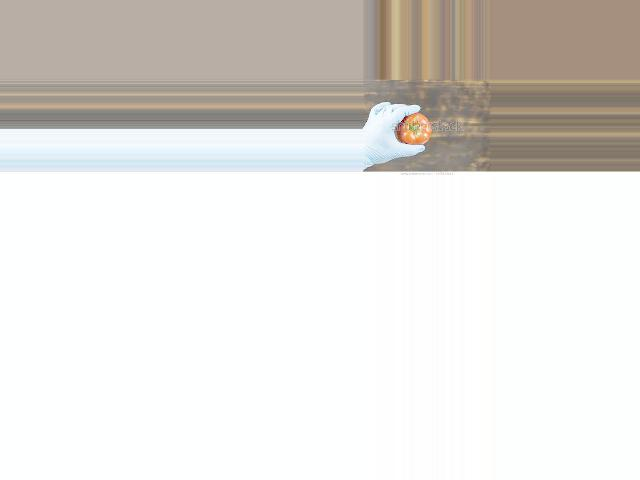tomato: (396, 113, 432, 145)
